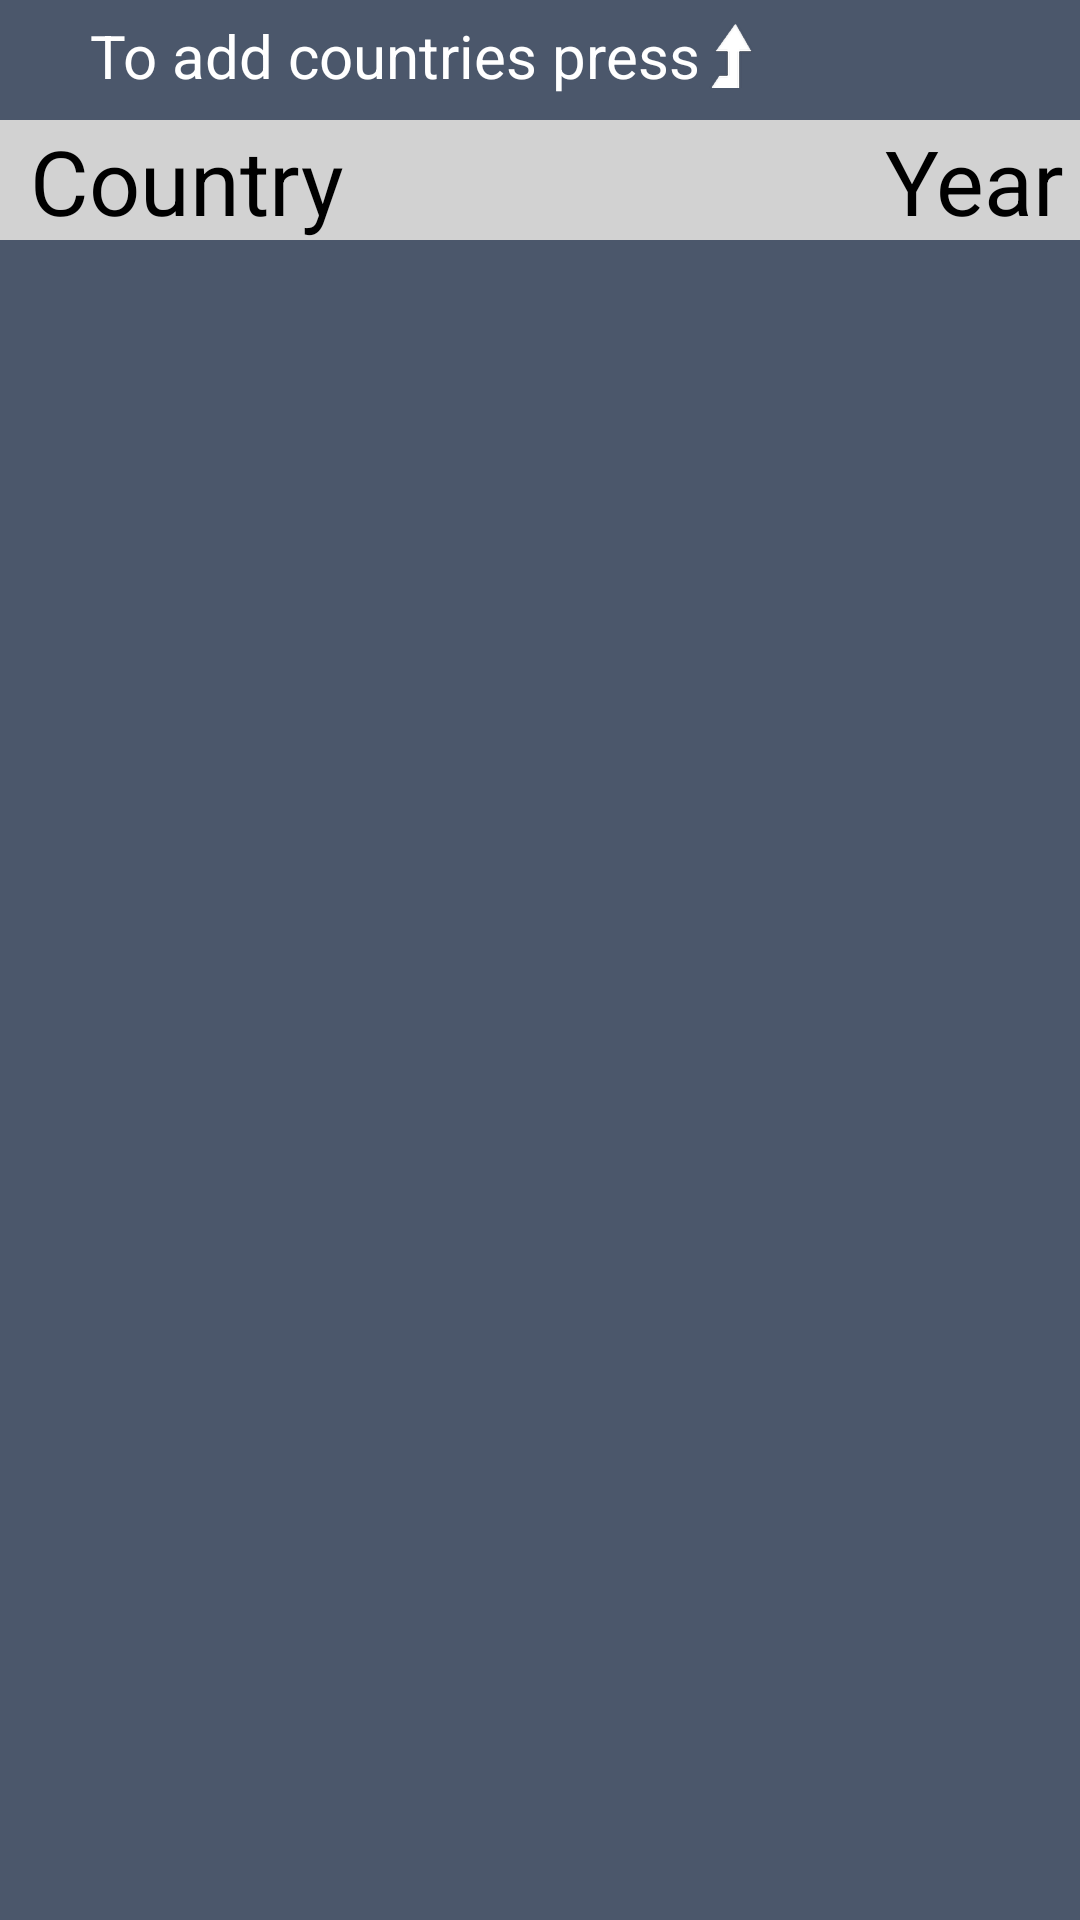

Named icons in this screenshot (1080×1920) and their bounding boxes, (x1, y1, x2, y2):
level up: (712, 24, 751, 88)
